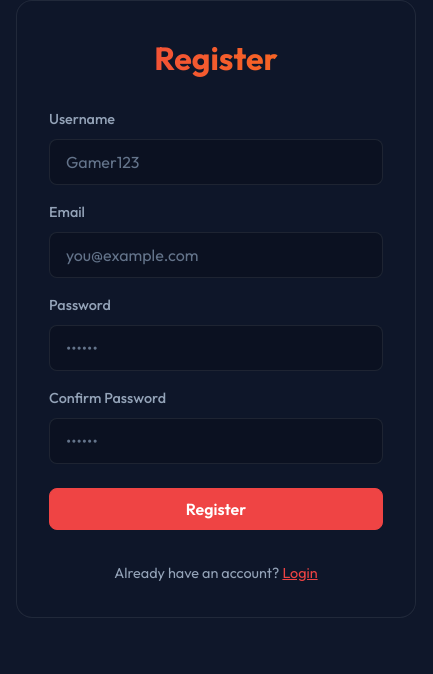
Test: RegisterPage › should handle registration error from backend
The width and height of the screenshot is (433, 674).
Type "NewUser" into the field with placeholder "Gamer123" at x=216, y=162, box [49, 139, 383, 185]
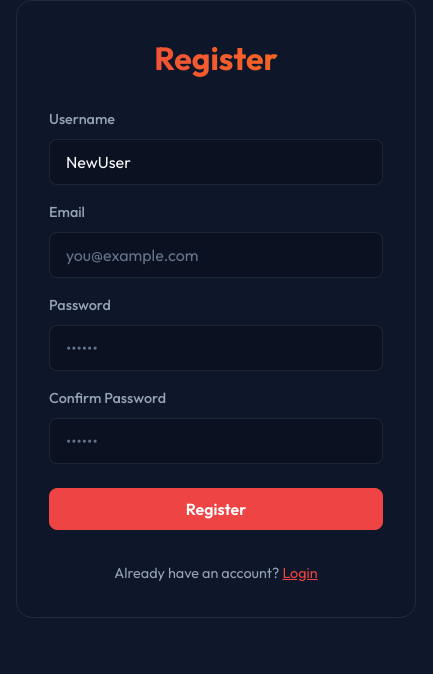
Type "existing@example.com" into the field with placeholder "you@example.com" at x=216, y=255, box [49, 232, 383, 278]
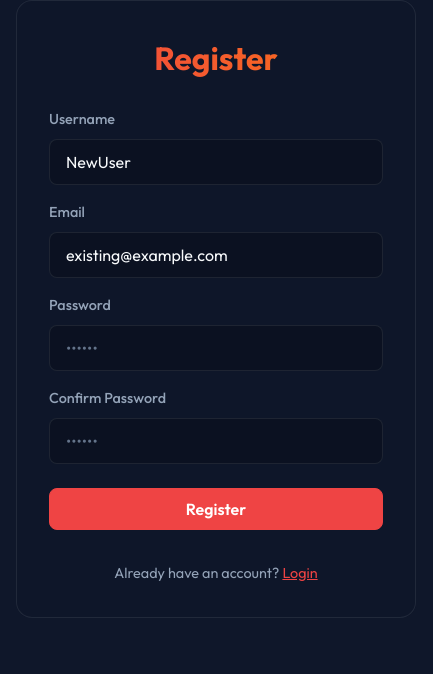
Type "password123" into the password field with placeholder "••••••" at x=216, y=348, box [49, 325, 383, 371]
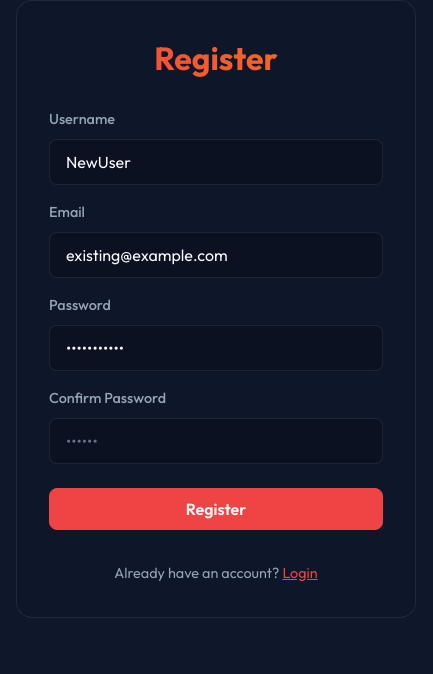
Type "password123" into the password field with placeholder "••••••" at x=216, y=441, box [49, 418, 383, 464]
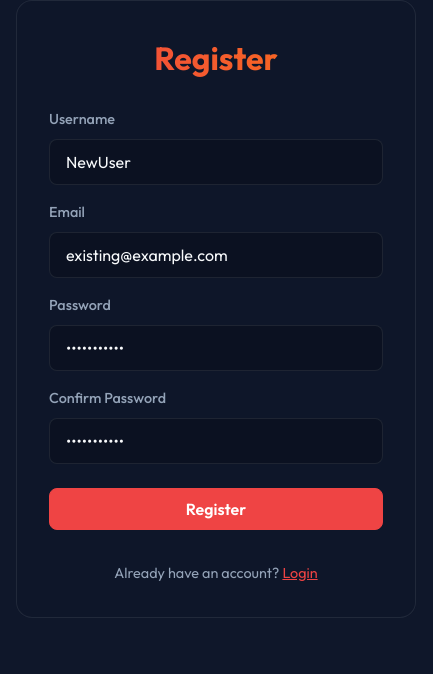
Click the button "Register" at x=216, y=509, box [49, 488, 383, 530]
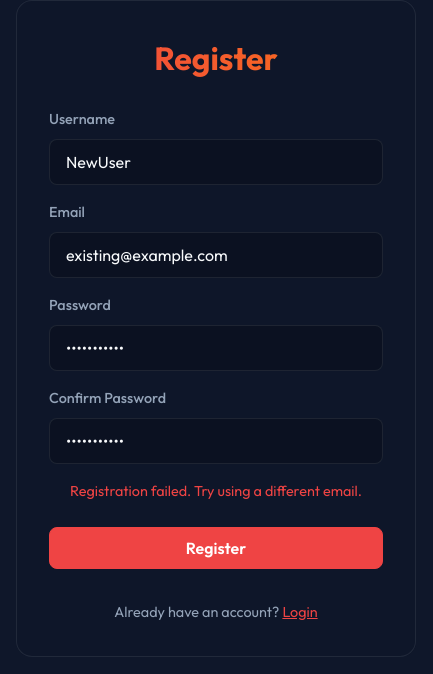
Expected: the text "Registration failed. Try using a different email." is shown, [49, 480, 383, 503]
